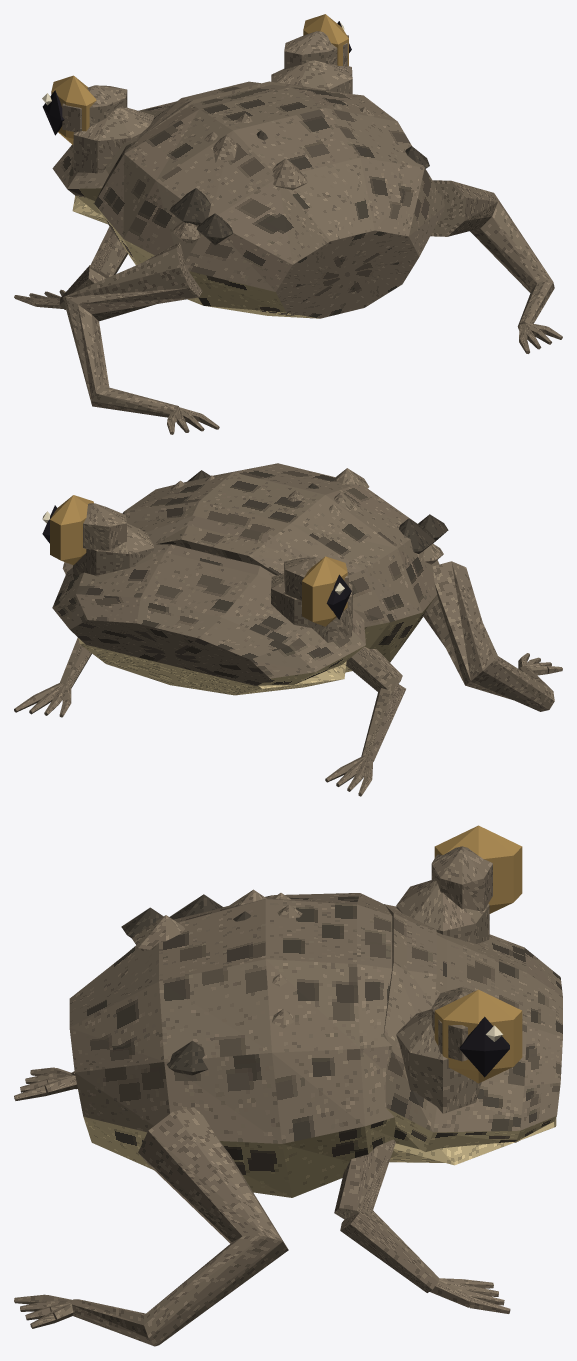
File: mon_odd_megafrog.glb
3 views of the same model, one above another, from view 1: azimuth 30°, elevation 25°; view 2: azimuth 150°, elevation 25°; view 3: azimuth 270°, elevation 25° (orthographic). The views are drawn at different scales.
Parts seen in each view (by area): view 1: closed_body; view 2: closed_body; view 3: closed_body.
Boxes of the visible parts, x1=… form: closed_body: x1=14, y1=14, x2=562, y2=434; closed_body: x1=14, y1=463, x2=562, y2=796; closed_body: x1=14, y1=825, x2=562, y2=1346.
Bounding box in the file's own units: 2.53 × 1.15 × 1.95.
Materials: 1 (1 with a texture image).
